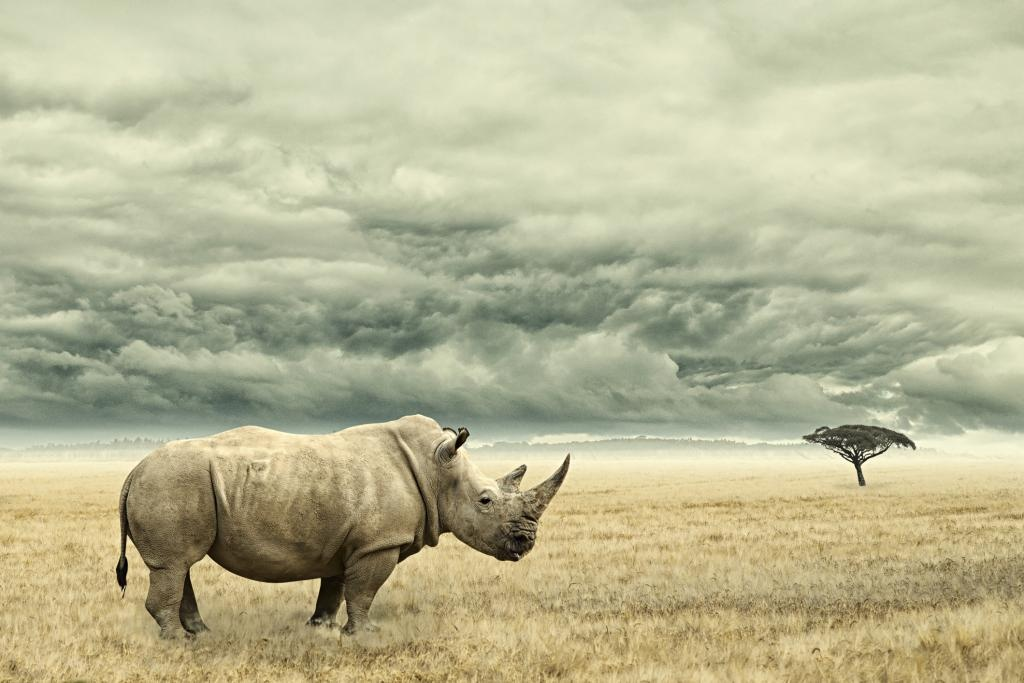rhino: (115, 411, 574, 637)
